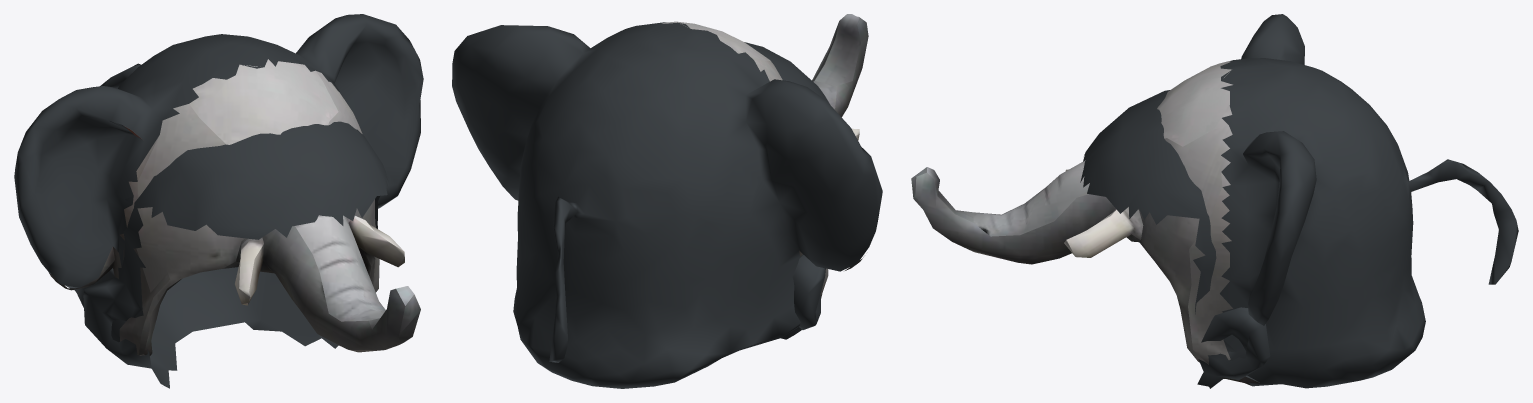
Rendered from elephant.glb.
3 renders of one model, left to right at view 1: azimuth 30°, elevation 25°; view 2: azimuth 150°, elevation 25°; view 3: azimuth 270°, elevation 25°, orthographic. The views are drawn at different scales.
Parts seen in each view (by area): view 1: geometry_0, HoodAnatomicalLining; view 2: geometry_0, HoodAnatomicalLining; view 3: geometry_0, HoodAnatomicalLining.
Part boxes in pixels (box(x1,y1,x2,y2)): geometry_0: box(14, 14, 423, 355); HoodAnatomicalLining: box(83, 121, 389, 388); geometry_0: box(452, 14, 882, 388); HoodAnatomicalLining: box(744, 42, 830, 339); geometry_0: box(911, 14, 1518, 388); HoodAnatomicalLining: box(1080, 90, 1270, 388).
Size of the model in its own units: 0.6732 by 0.4647 by 0.9074.
Materials: 2 (1 with a texture image).
